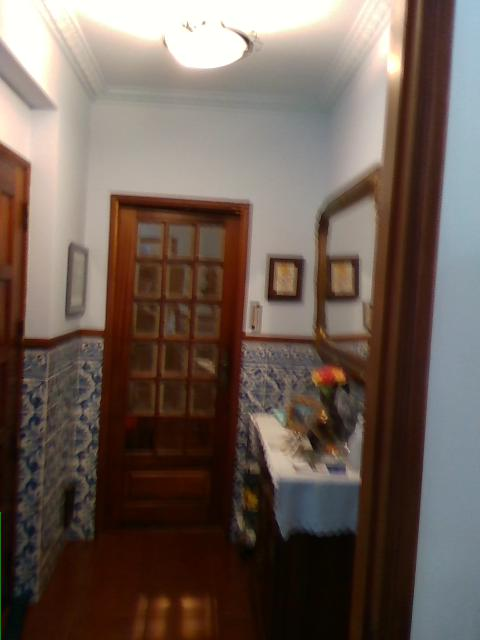door: (95, 192, 251, 534)
